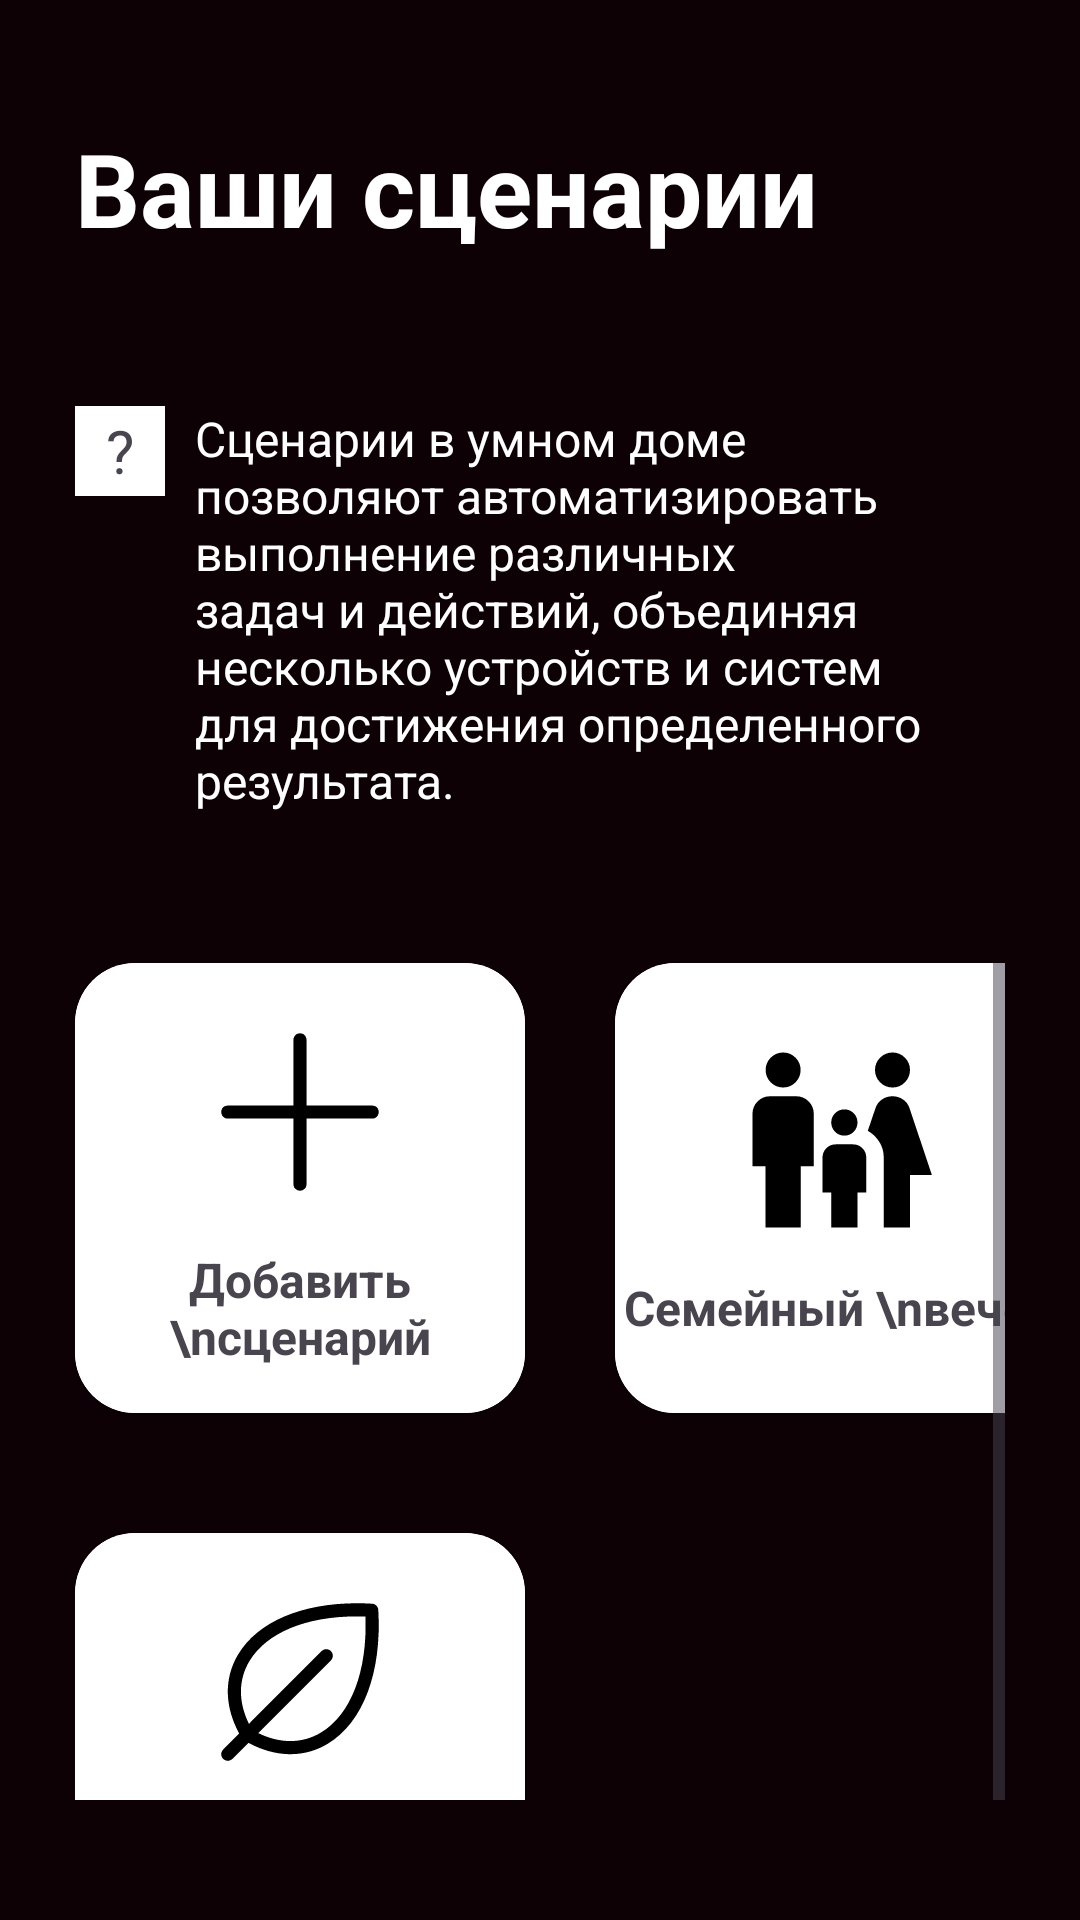

Locate icon controls on the screen. Image size 1080w x 1920h, boxes as (x1, y1, x2, y2).
leaf: (221, 1603, 379, 1761)
plus: (221, 1033, 379, 1191)
symbols family restroom: (752, 1052, 932, 1228)
